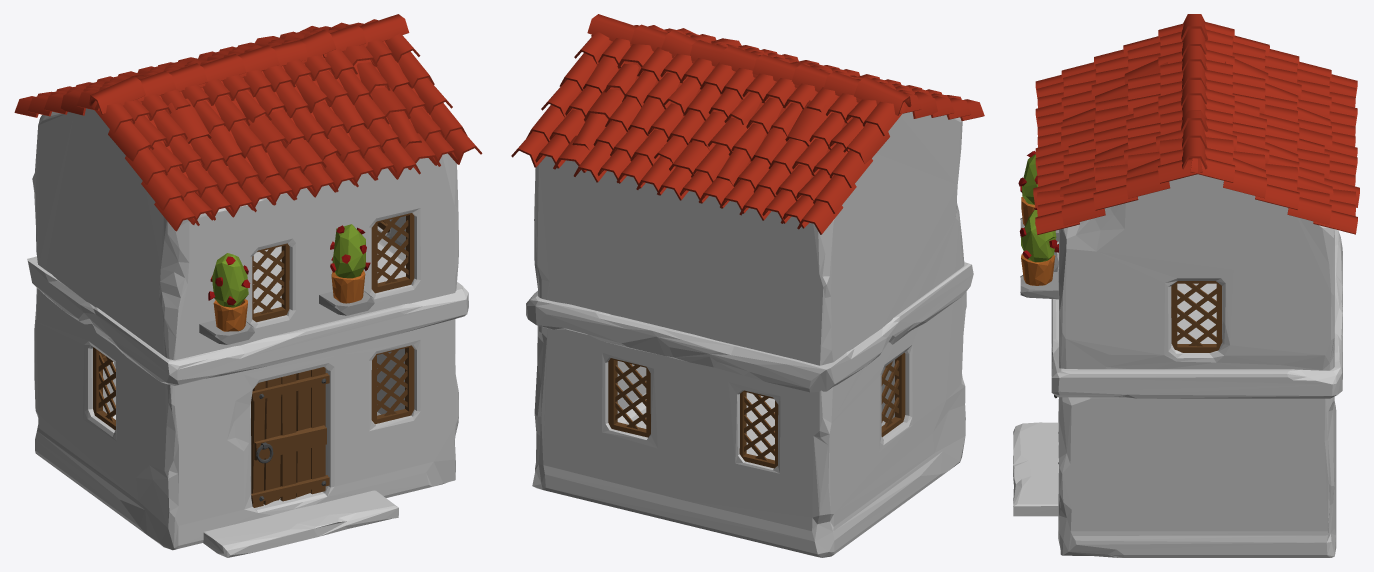
Rendered from SM_building_greek_04.fbx.
The picture shows the model from 3 angles, left to right: view 1: azimuth 30°, elevation 25°; view 2: azimuth 150°, elevation 25°; view 3: azimuth 270°, elevation 25°; orthographic projection. The views are drawn at different scales.
Visible parts, largest first — view 1: Object484, Object498; view 2: Object484; view 3: Object484.
Part boxes in pixels (x1,y1,x2,y2): Object484: (14,14,482,557); Object498: (251,367,329,507); Object484: (511,14,984,557); Object484: (1013,14,1359,557).
Bounding box in the file's own units: 200 × 257 × 197.
